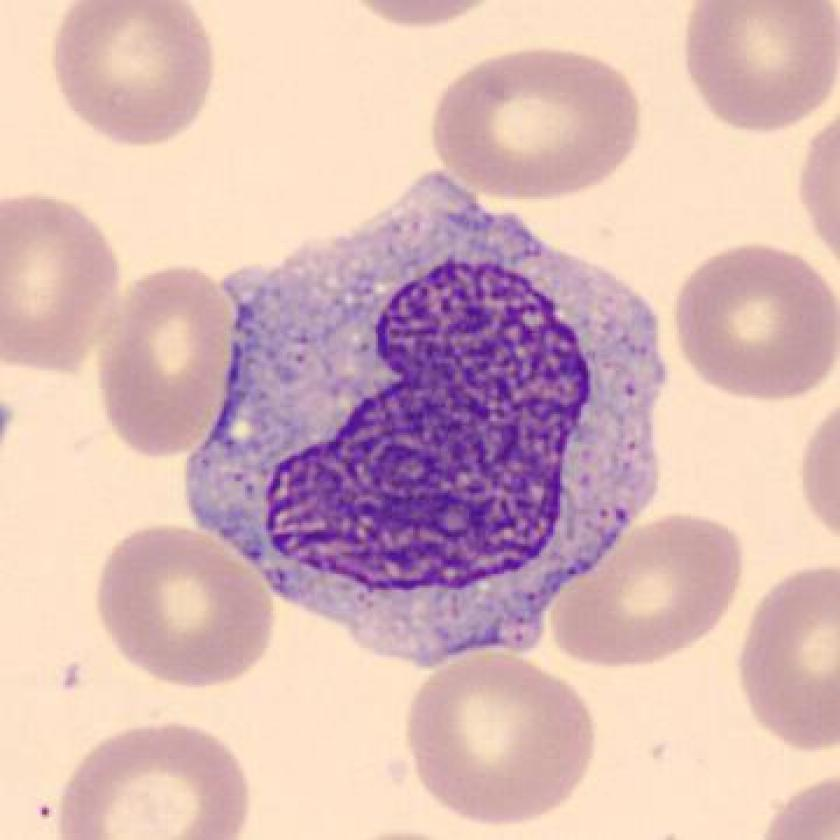monocyte: (164, 161, 706, 674)
